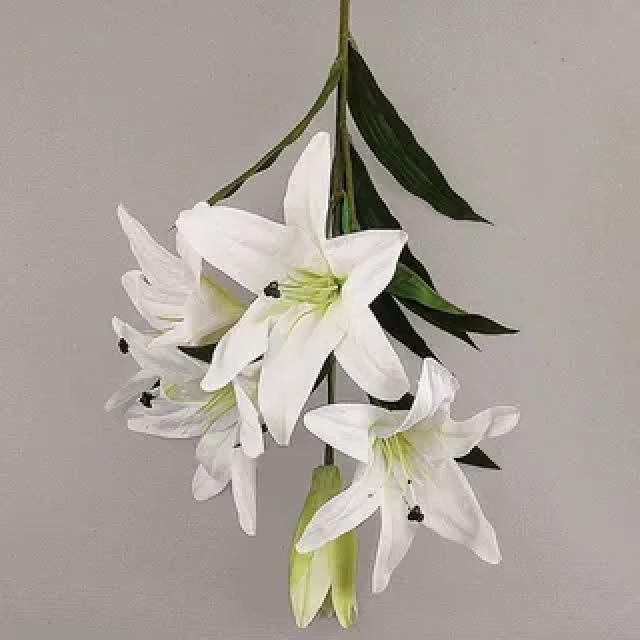lily: (172, 132, 426, 452)
